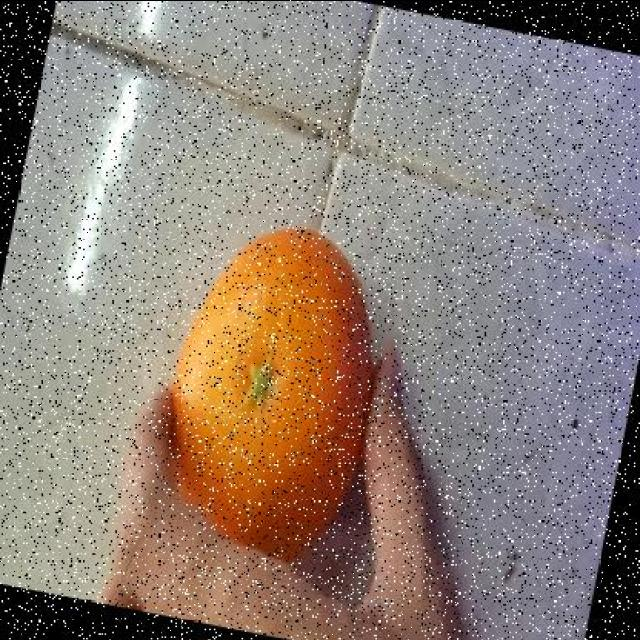Orange: (156, 226, 374, 563)
